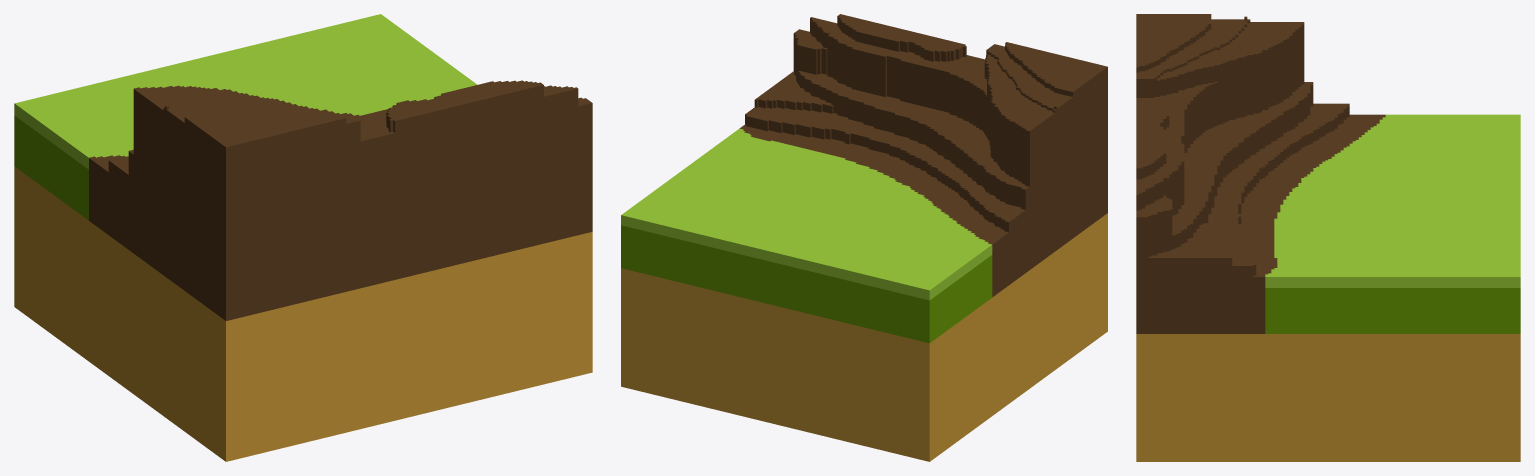
3 views of the same model, side by side, from view 1: azimuth 30°, elevation 25°; view 2: azimuth 150°, elevation 25°; view 3: azimuth 270°, elevation 25° (orthographic). The views are drawn at different scales.
Visible parts, largest first — view 1: 9O; view 2: 9O; view 3: 9O.
Part boxes in pixels (x1=…): 9O: x1=14, y1=14, x2=592, y2=461; 9O: x1=621, y1=14, x2=1107, y2=461; 9O: x1=1136, y1=14, x2=1520, y2=461.
Size of the model in its own units: 12.8 by 10.5 by 12.8.
Materials: 1 (1 with a texture image).
